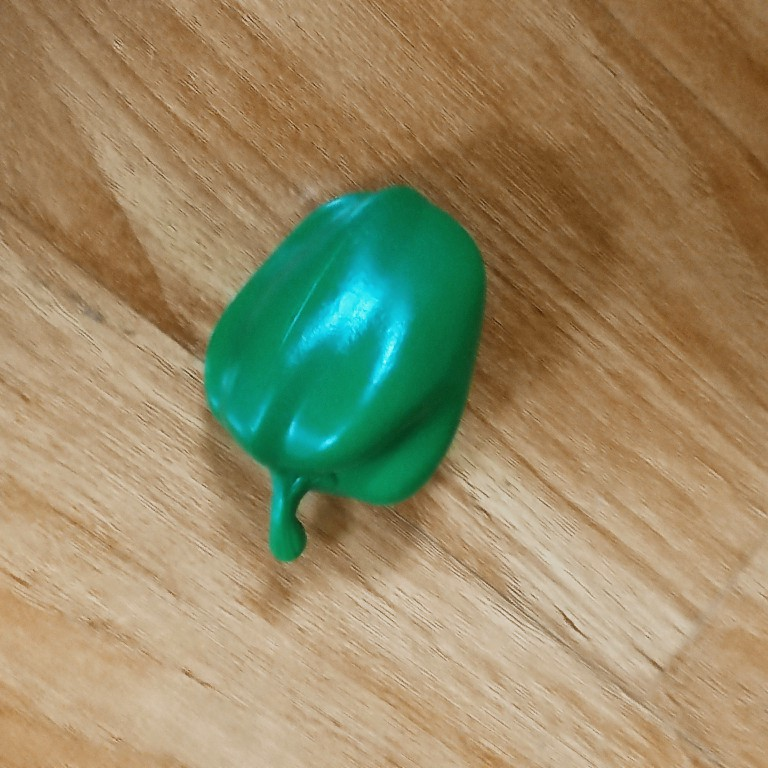fruit_pepper: (199, 179, 489, 567)
